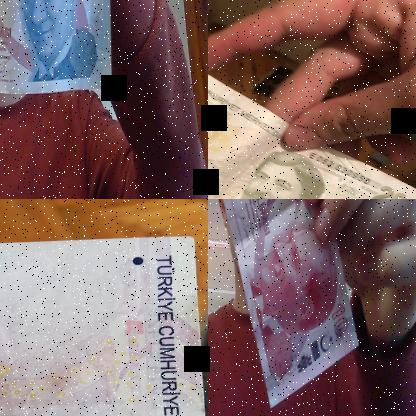5 TL: (0, 0, 112, 91)
